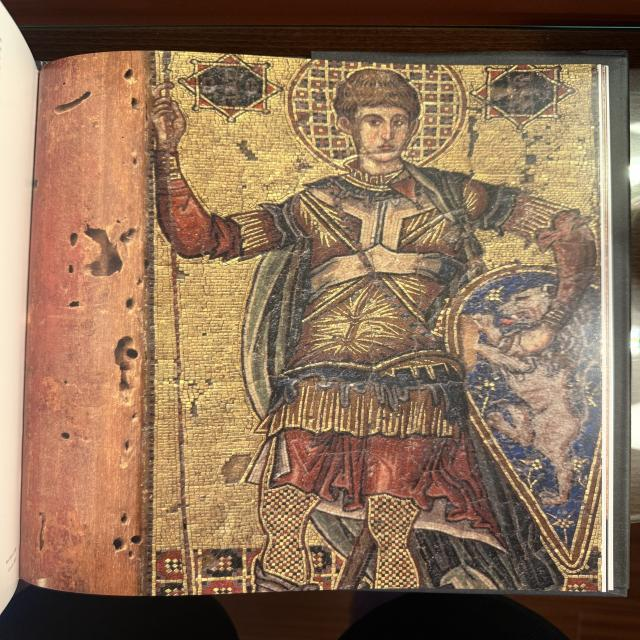aura: (294, 59, 468, 169)
shield: (446, 261, 606, 580)
spear: (157, 52, 205, 596)
st_george: (154, 53, 606, 591)
